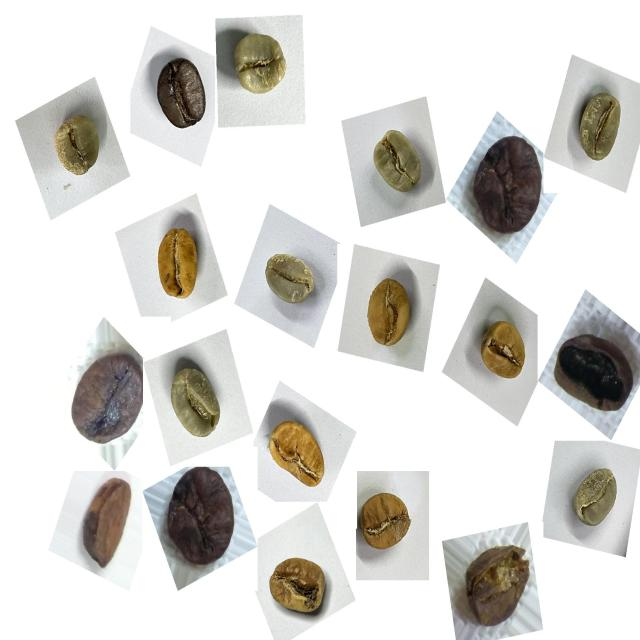bad: (461, 126, 554, 248), (158, 462, 248, 581), (64, 339, 152, 453), (545, 320, 637, 424), (452, 530, 538, 637), (72, 472, 141, 578)
dark: (148, 45, 210, 133)
green: (222, 20, 298, 114), (158, 356, 231, 450), (568, 79, 638, 174), (360, 120, 434, 208), (42, 104, 112, 191), (562, 456, 630, 541), (256, 242, 326, 320)
light: (262, 408, 335, 499), (144, 218, 212, 314), (346, 480, 420, 567), (353, 265, 422, 358), (259, 544, 334, 628), (469, 307, 536, 391)
